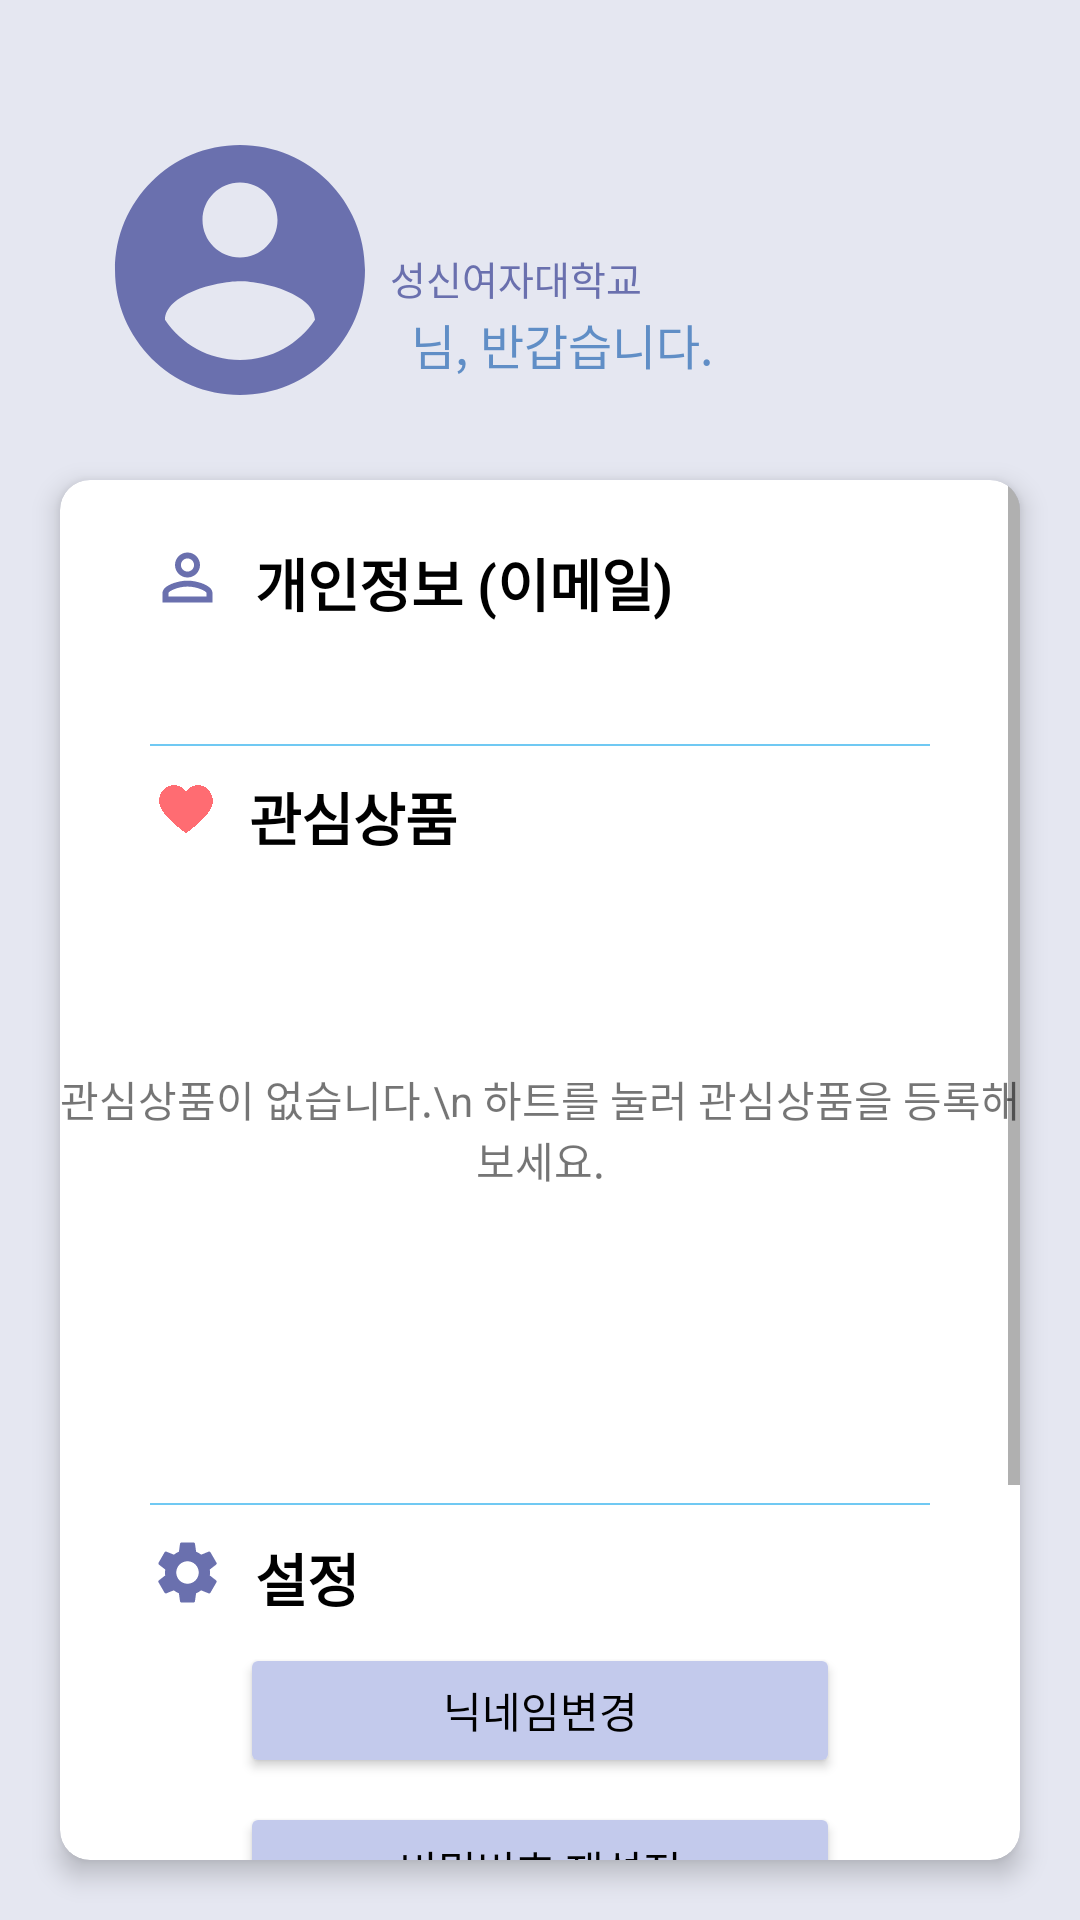

Icon click points for this 1080px x 1920px phone screenshot, format (x,y):
account circle: (240,270)
heart on: (186,809)
person: (187,577)
settings: (187,1572)
